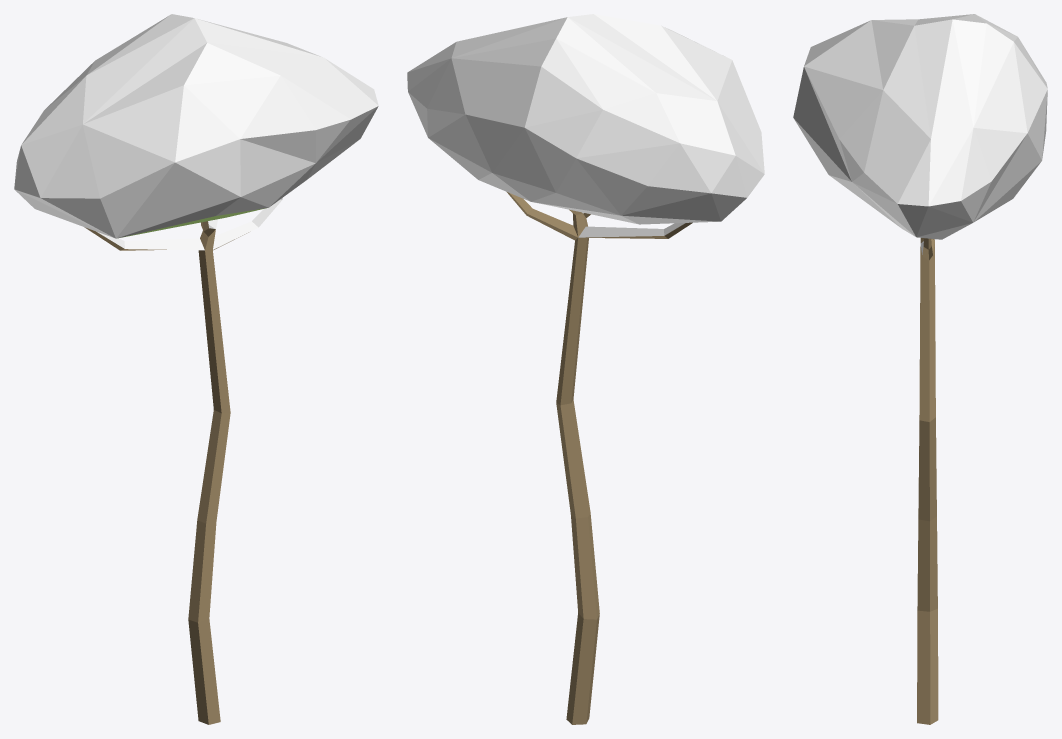
The model's file is Acacia_Tree_m_Snow_BT_02.fbx.
3 views of the same model, side by side, from view 1: azimuth 30°, elevation 25°; view 2: azimuth 150°, elevation 25°; view 3: azimuth 270°, elevation 25° (orthographic). The views are drawn at different scales.
Parts seen in each view (by area): view 1: Acacia_Tree_m_Snow_BT_02; view 2: Acacia_Tree_m_Snow_BT_02; view 3: Acacia_Tree_m_Snow_BT_02.
Boxes of the visible parts, box(x1,y1,x2,y2) form: Acacia_Tree_m_Snow_BT_02: box(14, 14, 378, 724); Acacia_Tree_m_Snow_BT_02: box(407, 14, 764, 724); Acacia_Tree_m_Snow_BT_02: box(793, 14, 1047, 724).
Size of the model in its own units: 538 by 1032 by 340.
